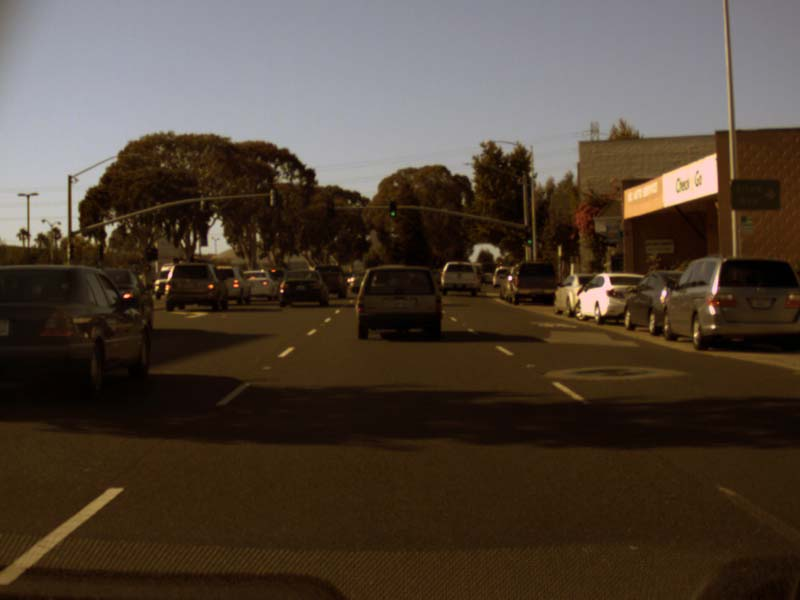Green: (525, 227, 532, 245), (389, 200, 396, 217)
